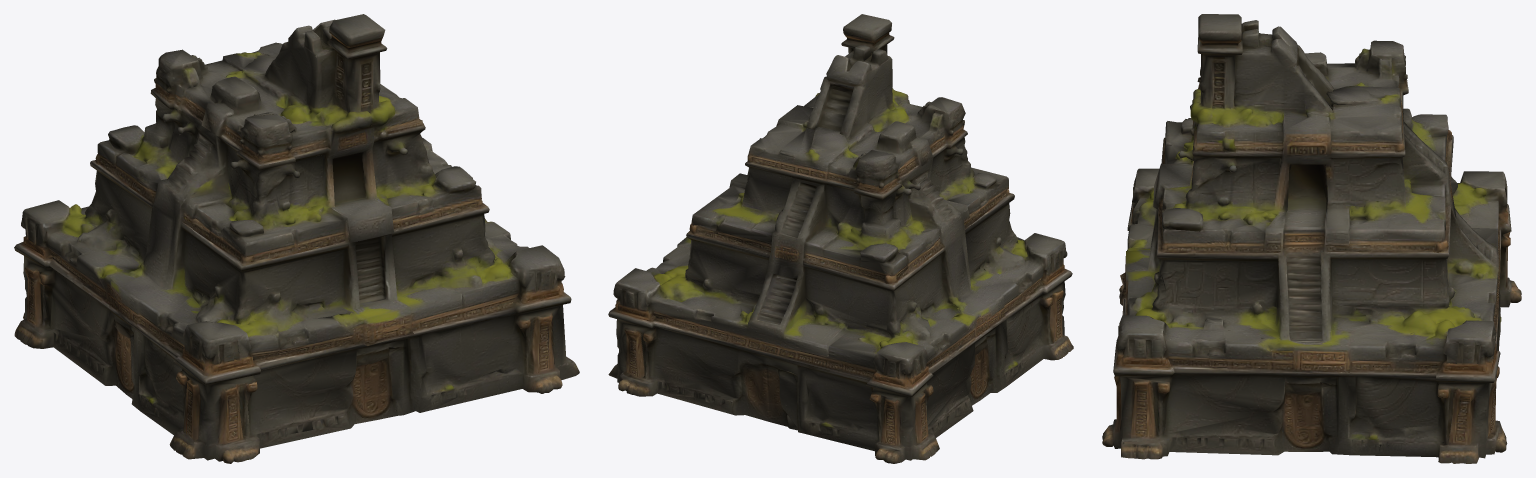
Rendered from ch7_terraced_ruins.glb.
3 views of the same model, side by side, from view 1: azimuth 30°, elevation 25°; view 2: azimuth 150°, elevation 25°; view 3: azimuth 270°, elevation 25° (orthographic). The views are drawn at different scales.
Visible parts, largest first — view 1: tripo_node_85571fa6-29fd-4f36-8f6d-fa6e21ac3b30; view 2: tripo_node_85571fa6-29fd-4f36-8f6d-fa6e21ac3b30; view 3: tripo_node_85571fa6-29fd-4f36-8f6d-fa6e21ac3b30.
Boxes of the visible parts, x1,y1,x2,y2 form: tripo_node_85571fa6-29fd-4f36-8f6d-fa6e21ac3b30: (14, 14, 579, 463); tripo_node_85571fa6-29fd-4f36-8f6d-fa6e21ac3b30: (608, 14, 1073, 463); tripo_node_85571fa6-29fd-4f36-8f6d-fa6e21ac3b30: (1102, 14, 1521, 463).
Size of the model in its own units: 0.998 by 0.9121 by 0.9629.
1 material, 1 textured.
